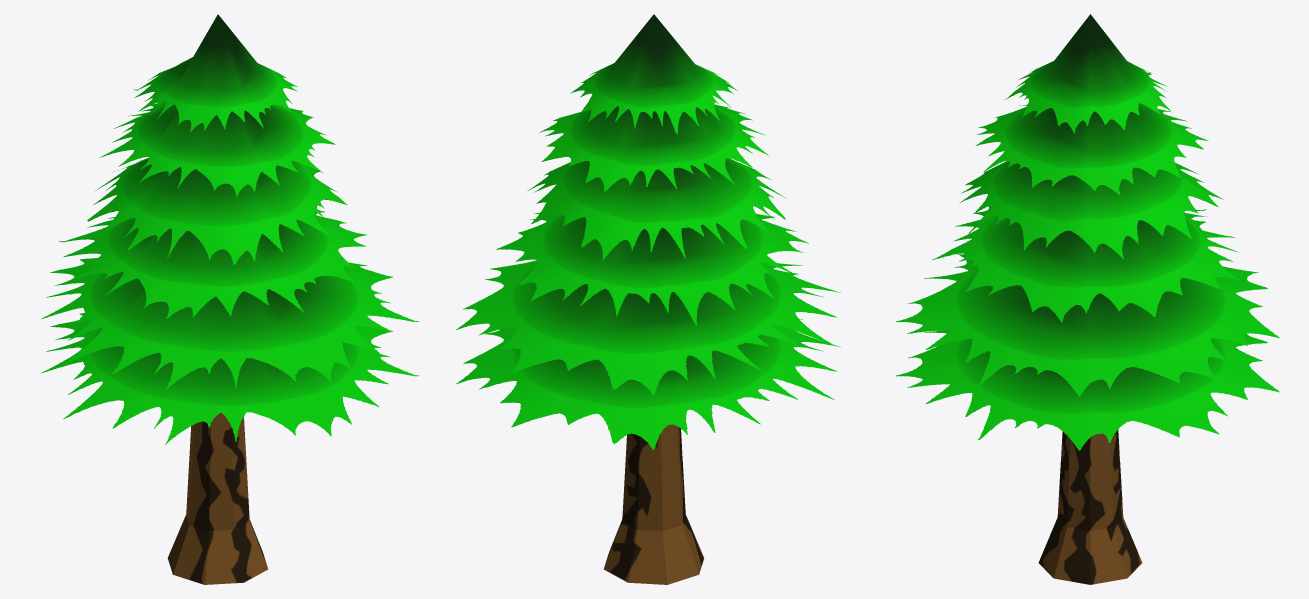
The model's file is TreeStarter 1.fbx.
The picture shows the model from 3 angles, left to right: view 1: azimuth 30°, elevation 25°; view 2: azimuth 150°, elevation 25°; view 3: azimuth 270°, elevation 25°; orthographic projection.
Parts seen in each view (by area): view 1: Plane, Cylinder; view 2: Plane, Cylinder; view 3: Plane, Cylinder.
Part boxes in pixels (x1,y1,x2,y2): Plane: [41, 14, 419, 445]; Cylinder: [167, 413, 268, 584]; Plane: [456, 14, 840, 449]; Cylinder: [603, 424, 704, 584]; Plane: [896, 14, 1279, 450]; Cylinder: [1038, 430, 1142, 584].
Size of the model in its own units: 5.43 by 5.43 by 8.06.
